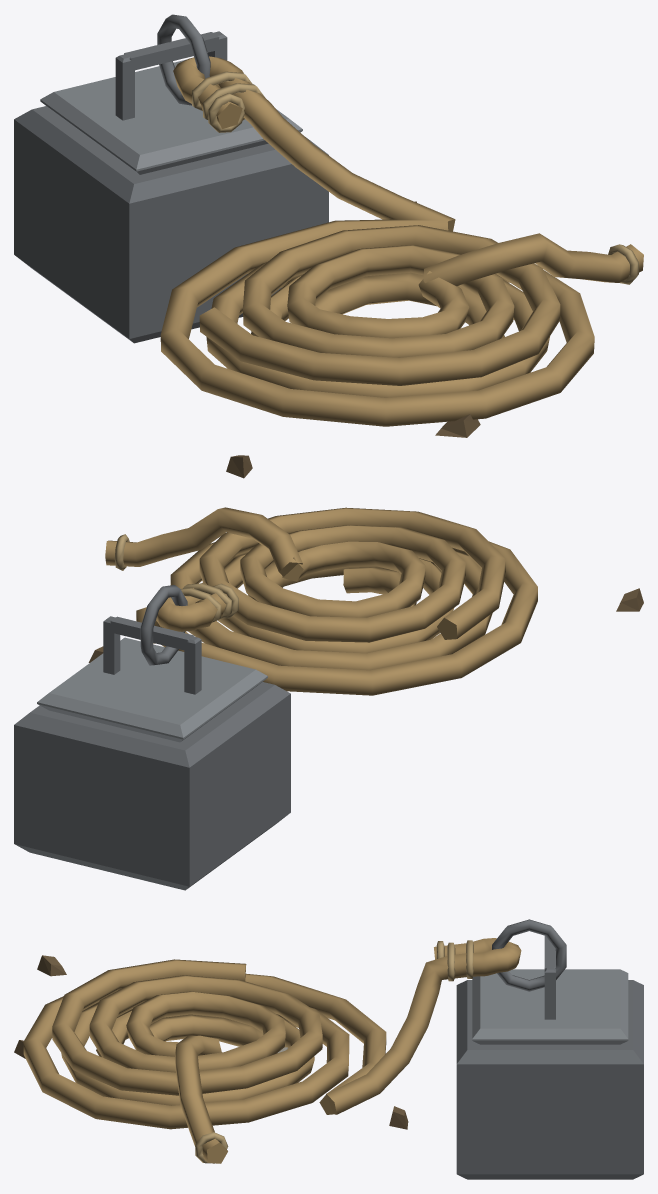
File: SM_LPD_Struct_RopeDescentCoil_01.fbx
The picture shows the model from 3 angles, top to bottom: view 1: azimuth 30°, elevation 25°; view 2: azimuth 150°, elevation 25°; view 3: azimuth 270°, elevation 25°; orthographic projection. The views are drawn at different scales.
Parts seen in each view (by area): view 1: SM_LPD_Struct_RopeDescentCoil_01; view 2: SM_LPD_Struct_RopeDescentCoil_01; view 3: SM_LPD_Struct_RopeDescentCoil_01.
Boxes of the visible parts, x1,y1,x2,y2 form: SM_LPD_Struct_RopeDescentCoil_01: [14, 14, 643, 478]; SM_LPD_Struct_RopeDescentCoil_01: [14, 507, 643, 890]; SM_LPD_Struct_RopeDescentCoil_01: [14, 919, 643, 1179].
Size of the model in its own units: 1.07 by 0.5563 by 1.41.
